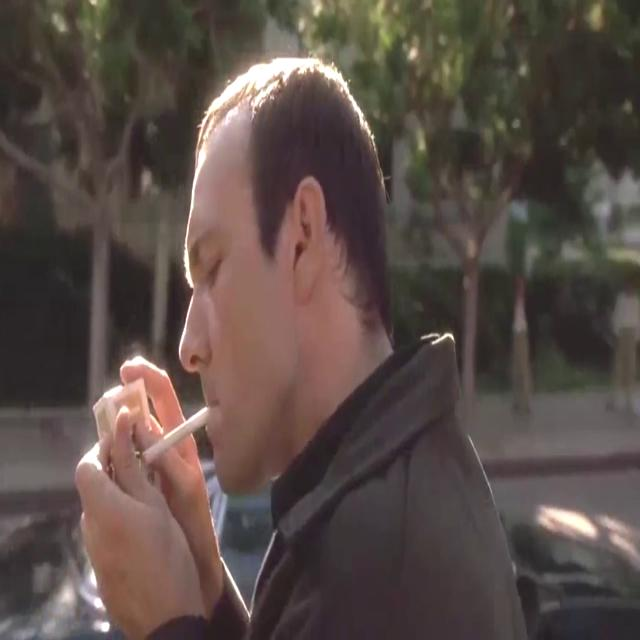Smooking: (136, 400, 216, 464)
